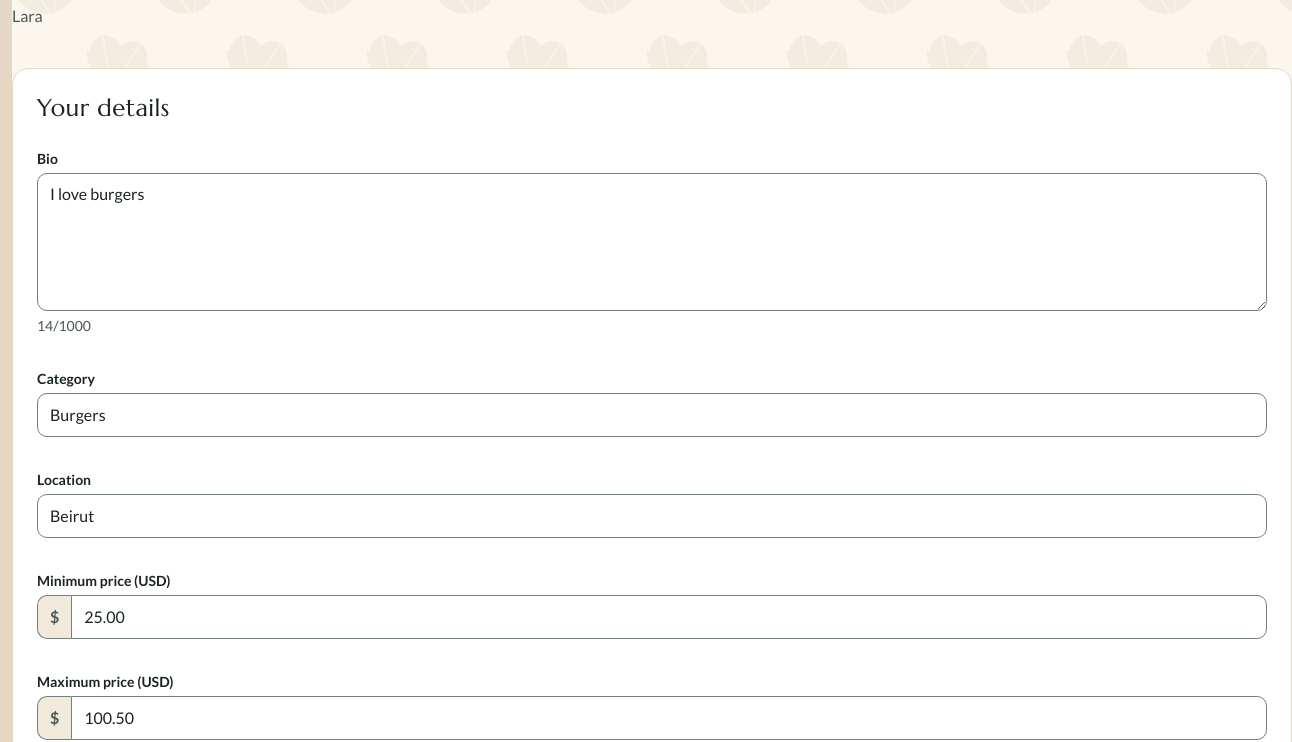
Test: saving the details › sends an empty bio as null
Clear the text box labelled "Bio". click: (652, 242)
box: 37,173 -> 1267,311
(page scrolled)
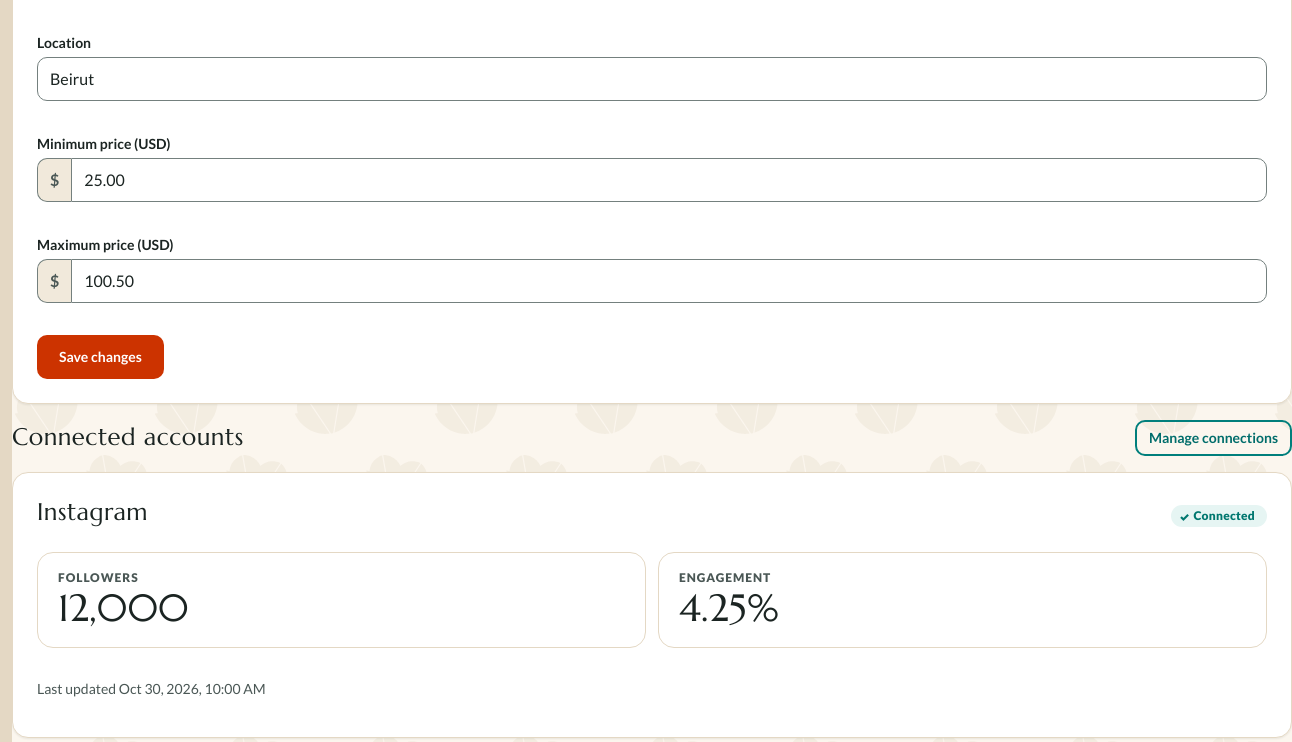
Click the button "Save changes". click: (100, 357)
box: 37,335 -> 164,379
(page scrolled)
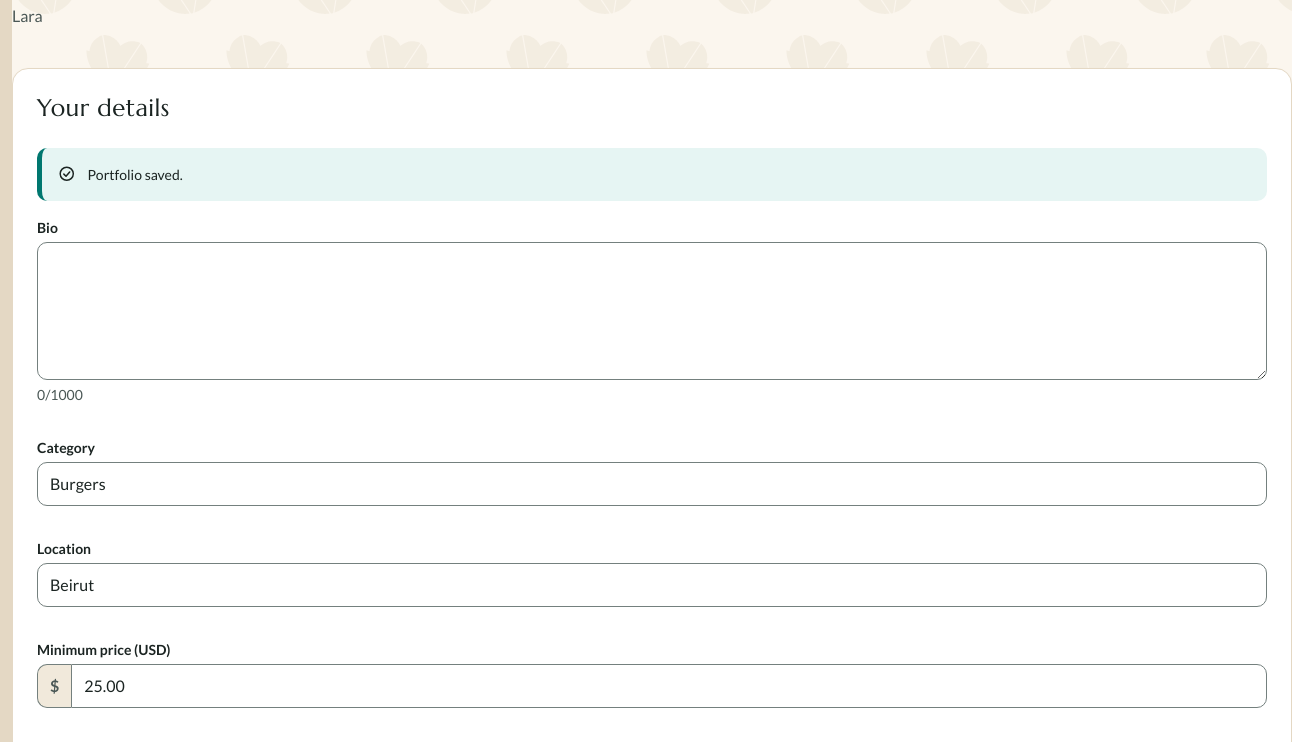
Expected: the message "Portfolio saved." is shown, 37,148 -> 1267,201
